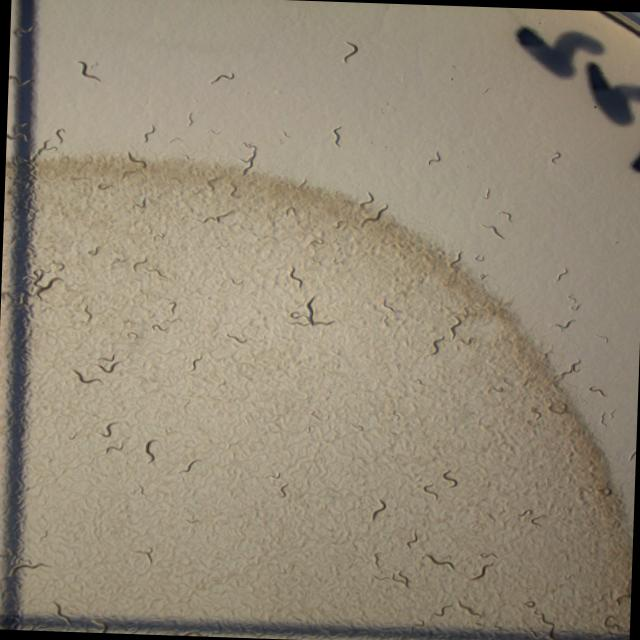filarid: (282, 265, 335, 326), (424, 553, 453, 570), (76, 60, 99, 81), (468, 562, 493, 579), (53, 601, 70, 624), (370, 497, 386, 521), (73, 369, 100, 382), (481, 224, 503, 238), (440, 468, 456, 487), (144, 438, 156, 463), (421, 483, 438, 500), (180, 457, 198, 472), (95, 360, 119, 371), (343, 42, 356, 61), (550, 318, 574, 328), (404, 530, 417, 548), (226, 332, 247, 342), (210, 74, 233, 82), (332, 124, 340, 145), (220, 278, 241, 286), (428, 150, 439, 164), (190, 356, 200, 371), (555, 267, 567, 279), (498, 210, 510, 222), (151, 323, 168, 331), (449, 252, 459, 265), (278, 481, 286, 496), (55, 127, 63, 142), (169, 300, 175, 314), (569, 303, 579, 309), (567, 294, 574, 301), (474, 254, 483, 259), (484, 188, 488, 197), (556, 153, 560, 157), (551, 157, 554, 162)
